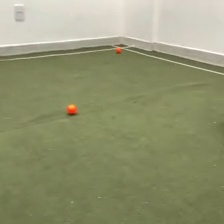ball: (66, 102, 78, 114), (115, 44, 122, 55)
